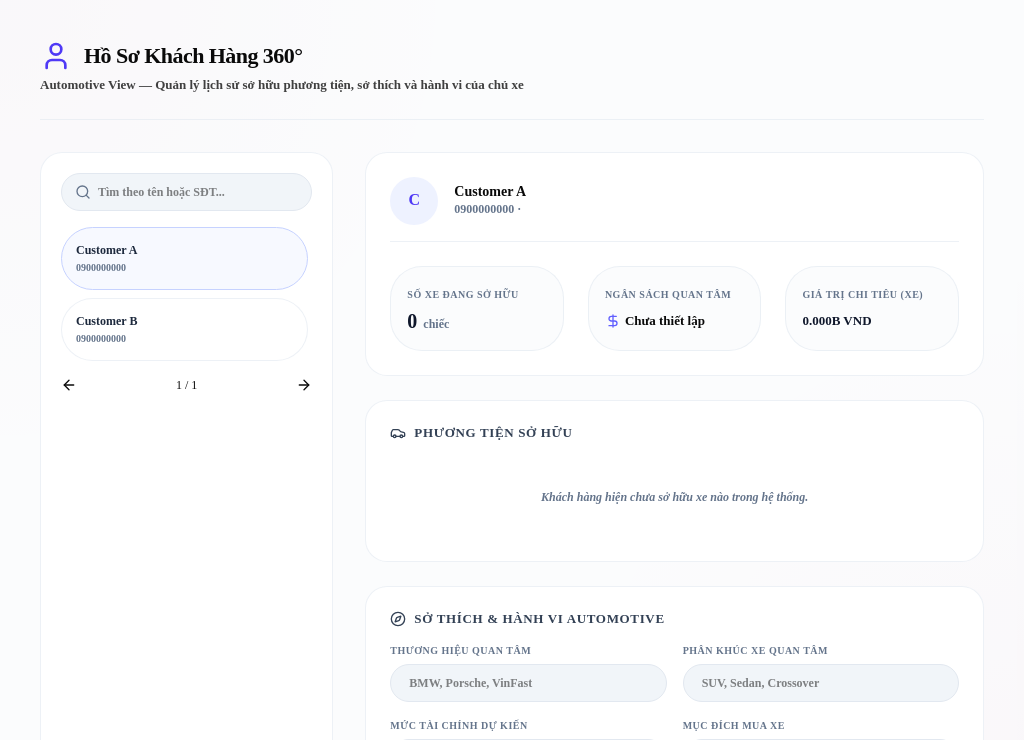
it: does not expose a previous customer form while the next profile is loading
Expected: the field with placeholder "BMW, Porsche, VinFast" is shown, [390,664,667,702]
What coordinates should you click on to do the following:
click the button "Customer B 0900000000"
I would click on:
 (185, 329)
Its box is [61,298,308,361].
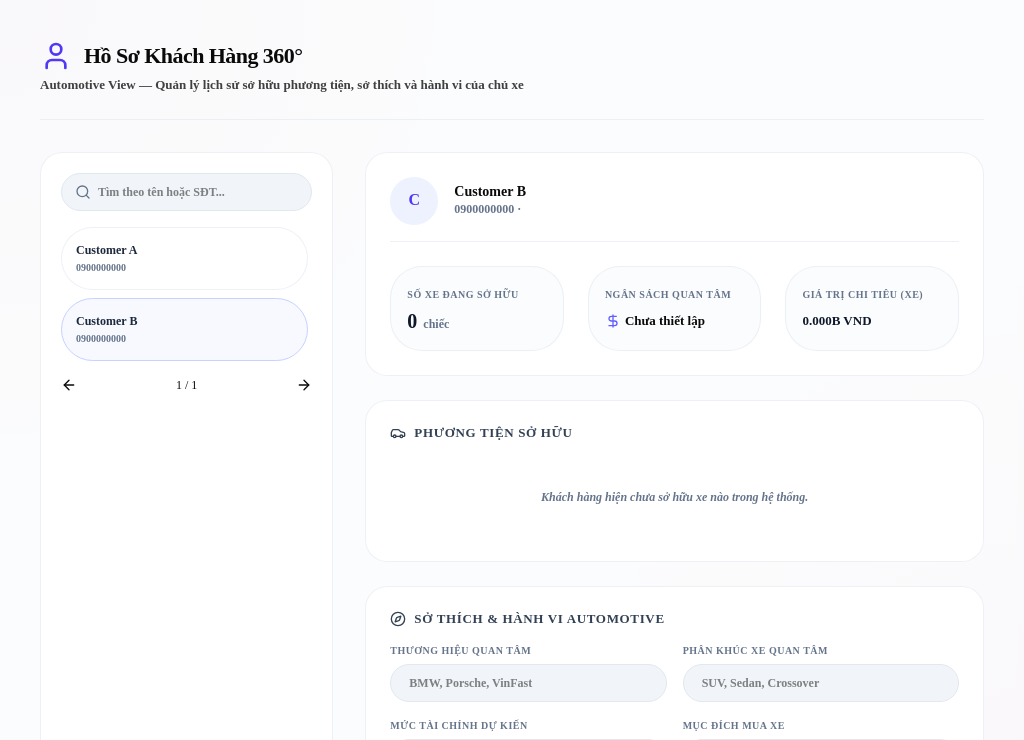
Expected: the field with placeholder "BMW, Porsche, VinFast" is enabled, [390,664,667,702]
Expected: the heading "Customer B" is shown, [454,184,526,201]
